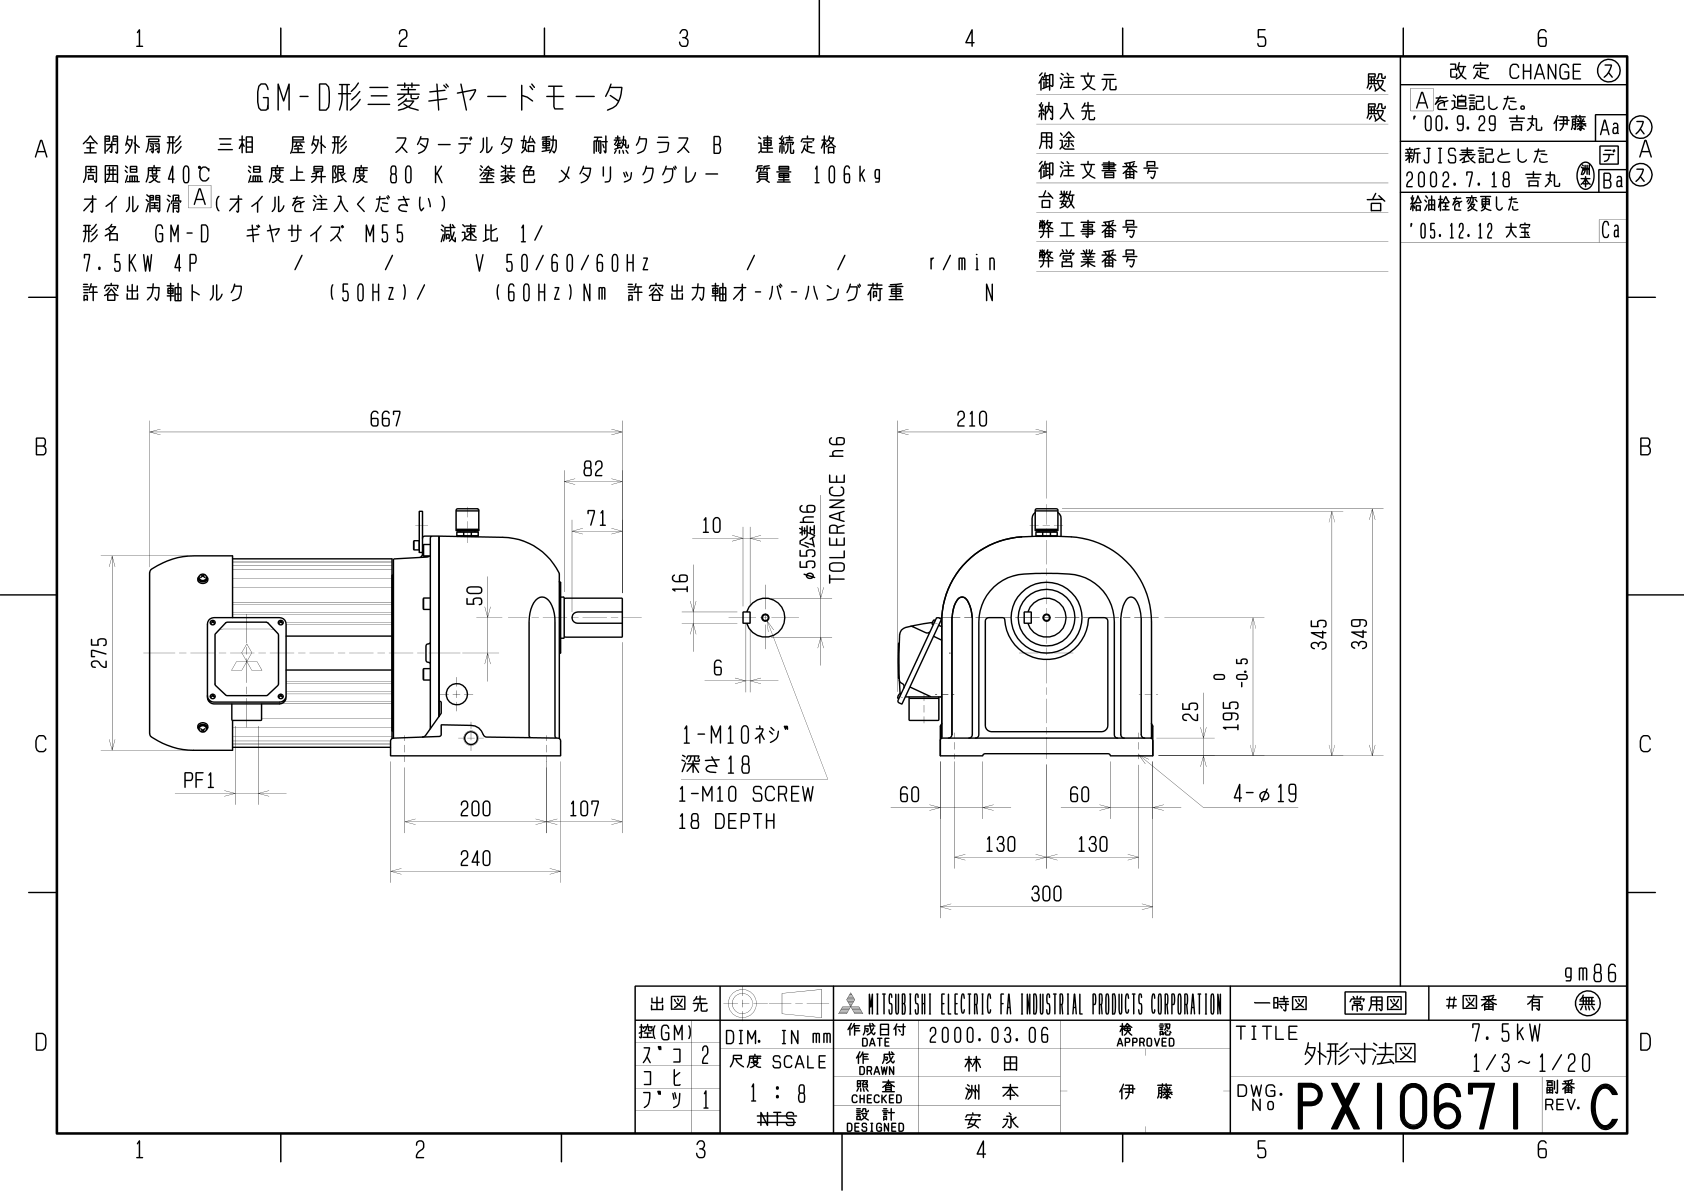GM_D_屋外＿三相_脚: (1, 1, 1672, 1181)
